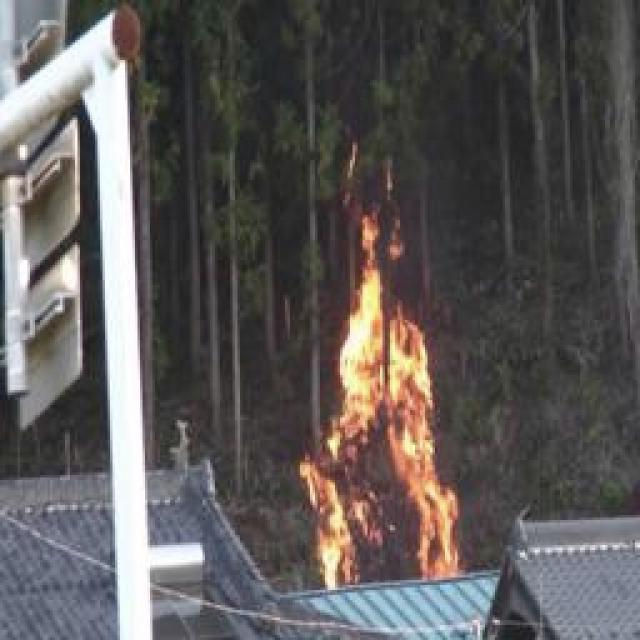Fire: (307, 210, 458, 588)
